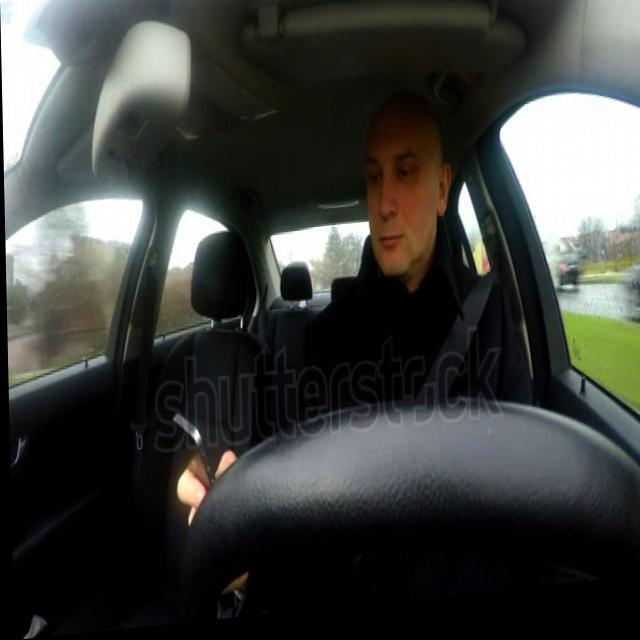PhoneCall: (170, 415, 217, 511)
